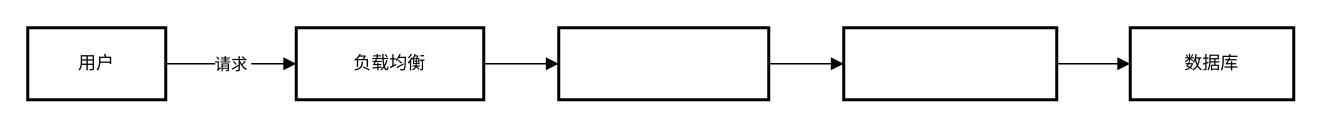
The diagram is 1320 pixels wide and 126 high, and some of its shapes have lost their labels. The box of each missing label's shape, as (x1, y1, x2, y2) in pixels:
Web服务器: (556, 26, 770, 100)
应用服务器: (842, 26, 1058, 100)
